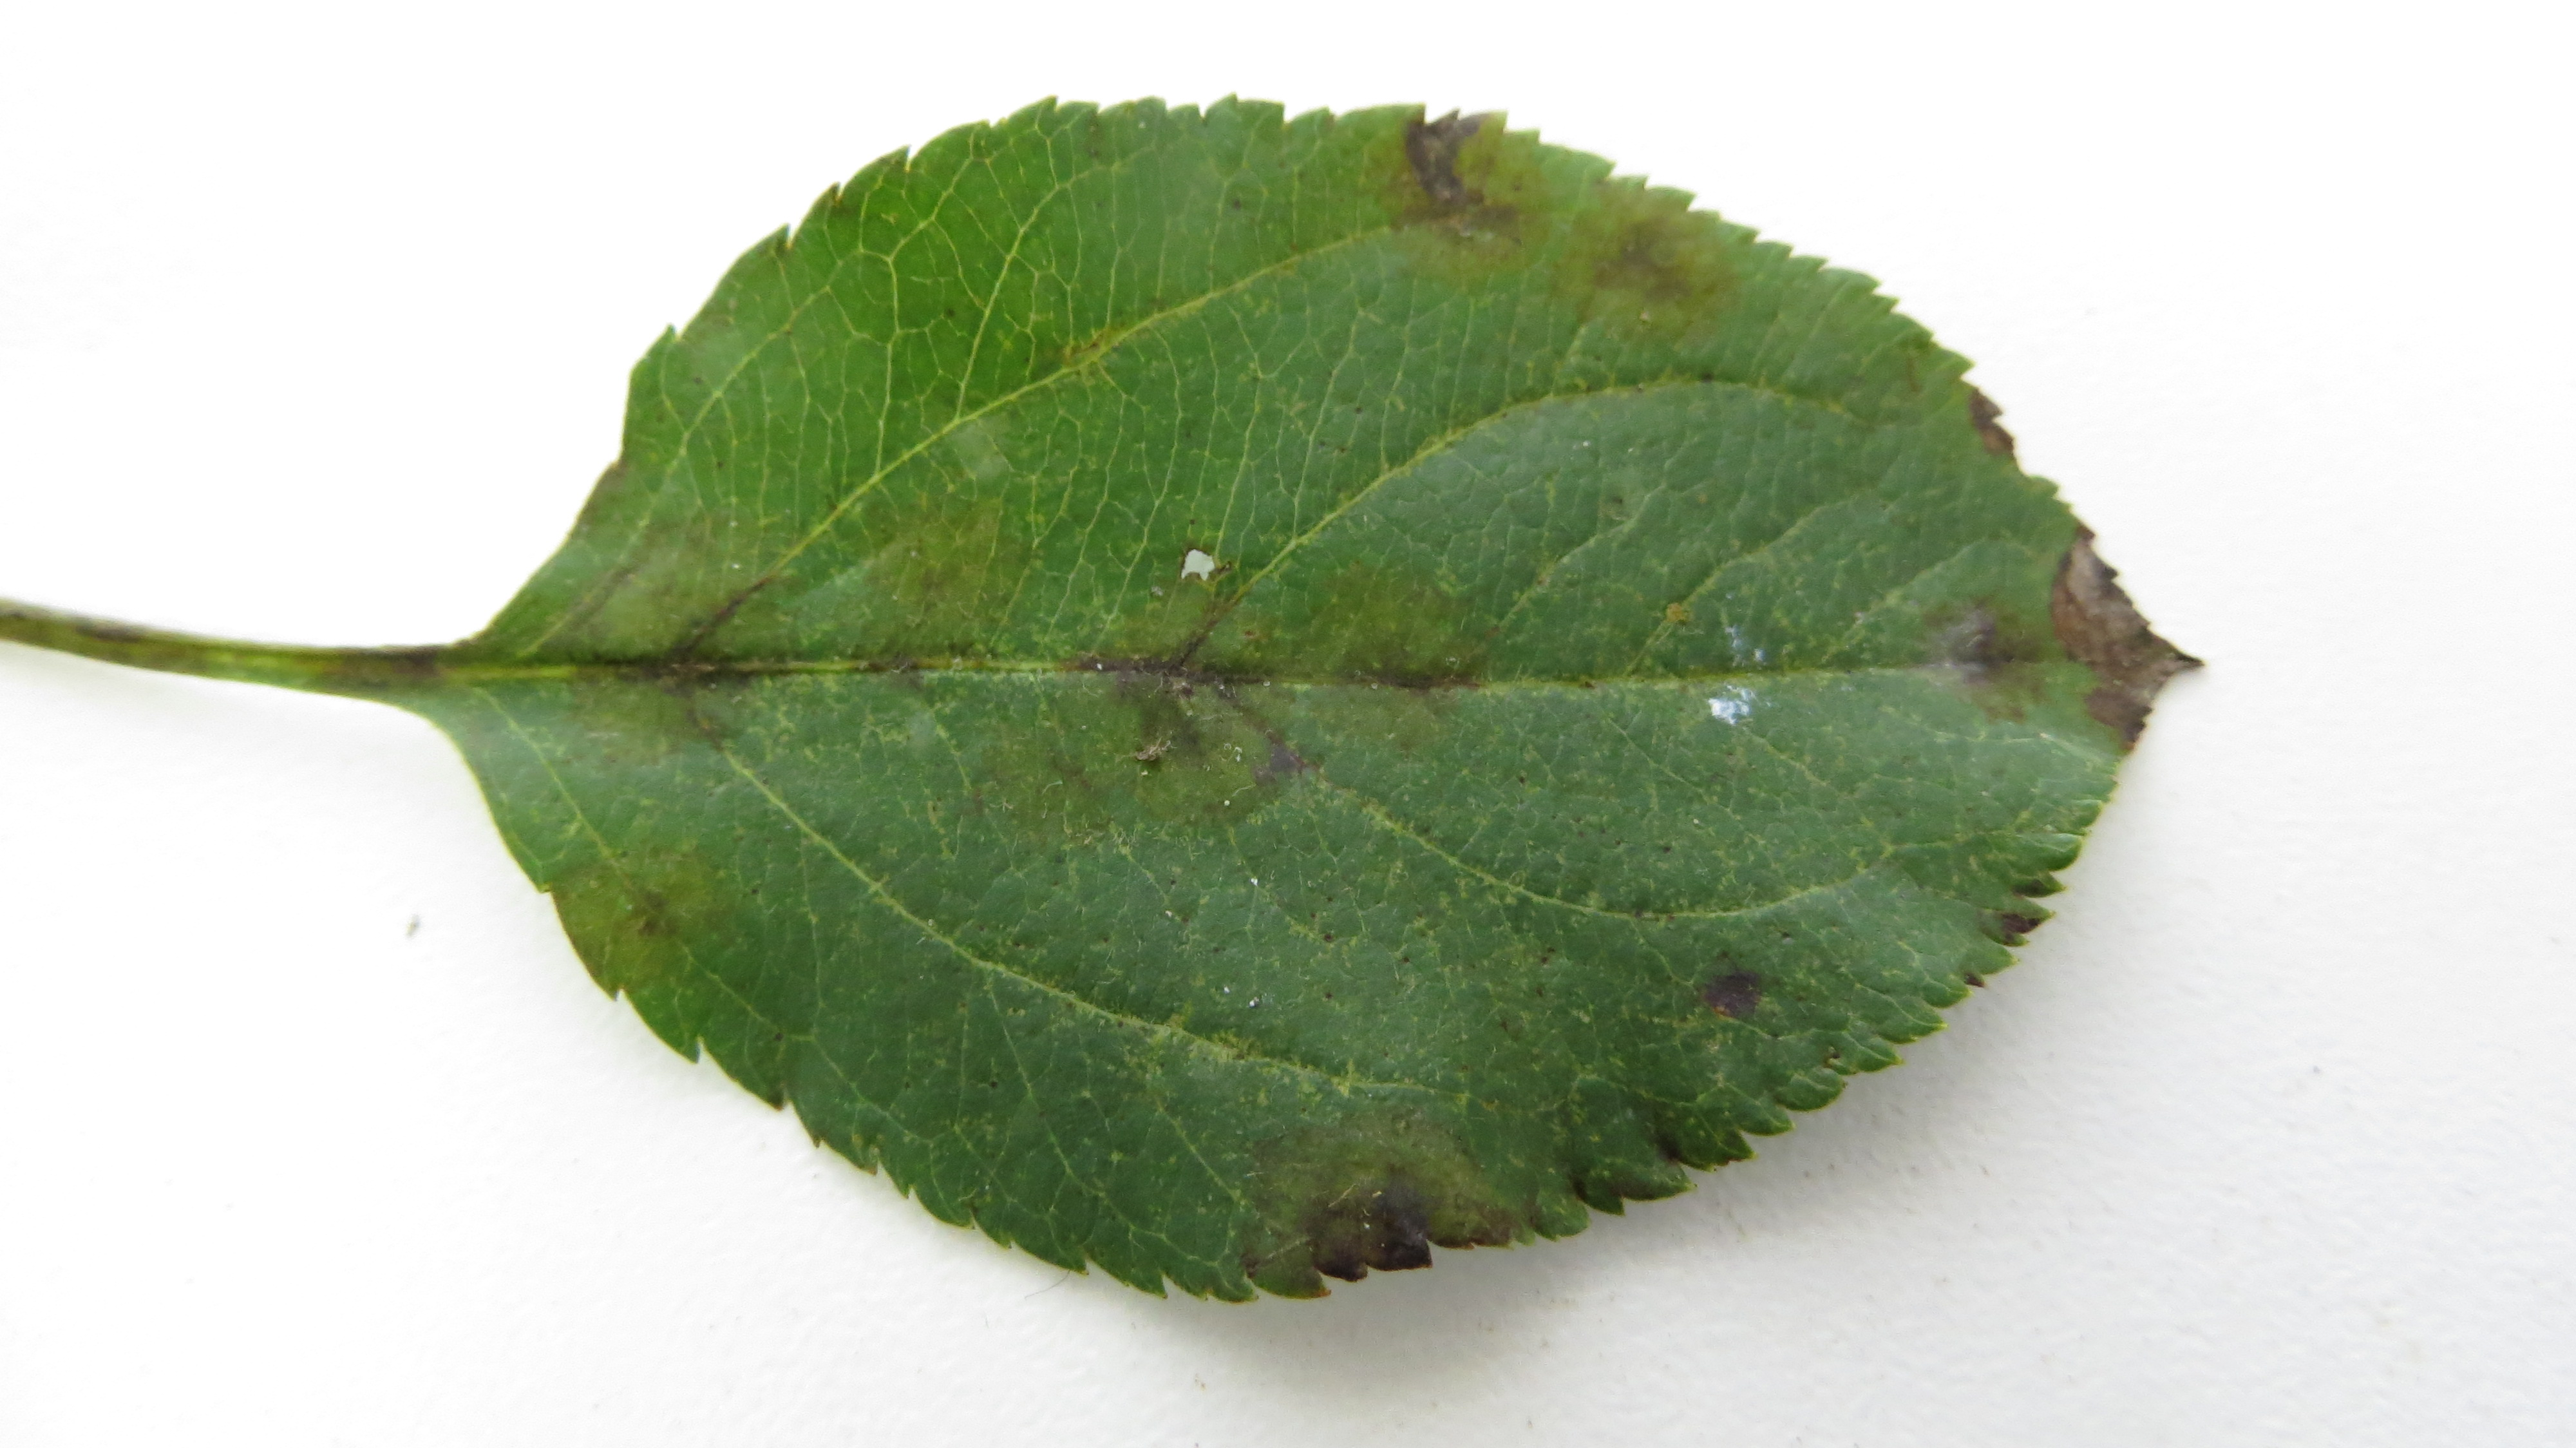sarna: (556, 504, 798, 754), (1072, 577, 1316, 813), (1251, 1112, 1500, 1294), (1322, 551, 1497, 745), (1378, 90, 1548, 290), (860, 476, 1035, 657), (1548, 170, 1721, 347), (2045, 520, 2181, 745), (550, 837, 729, 984), (1905, 588, 2056, 731), (1049, 289, 1141, 384), (1695, 940, 1780, 1032)
